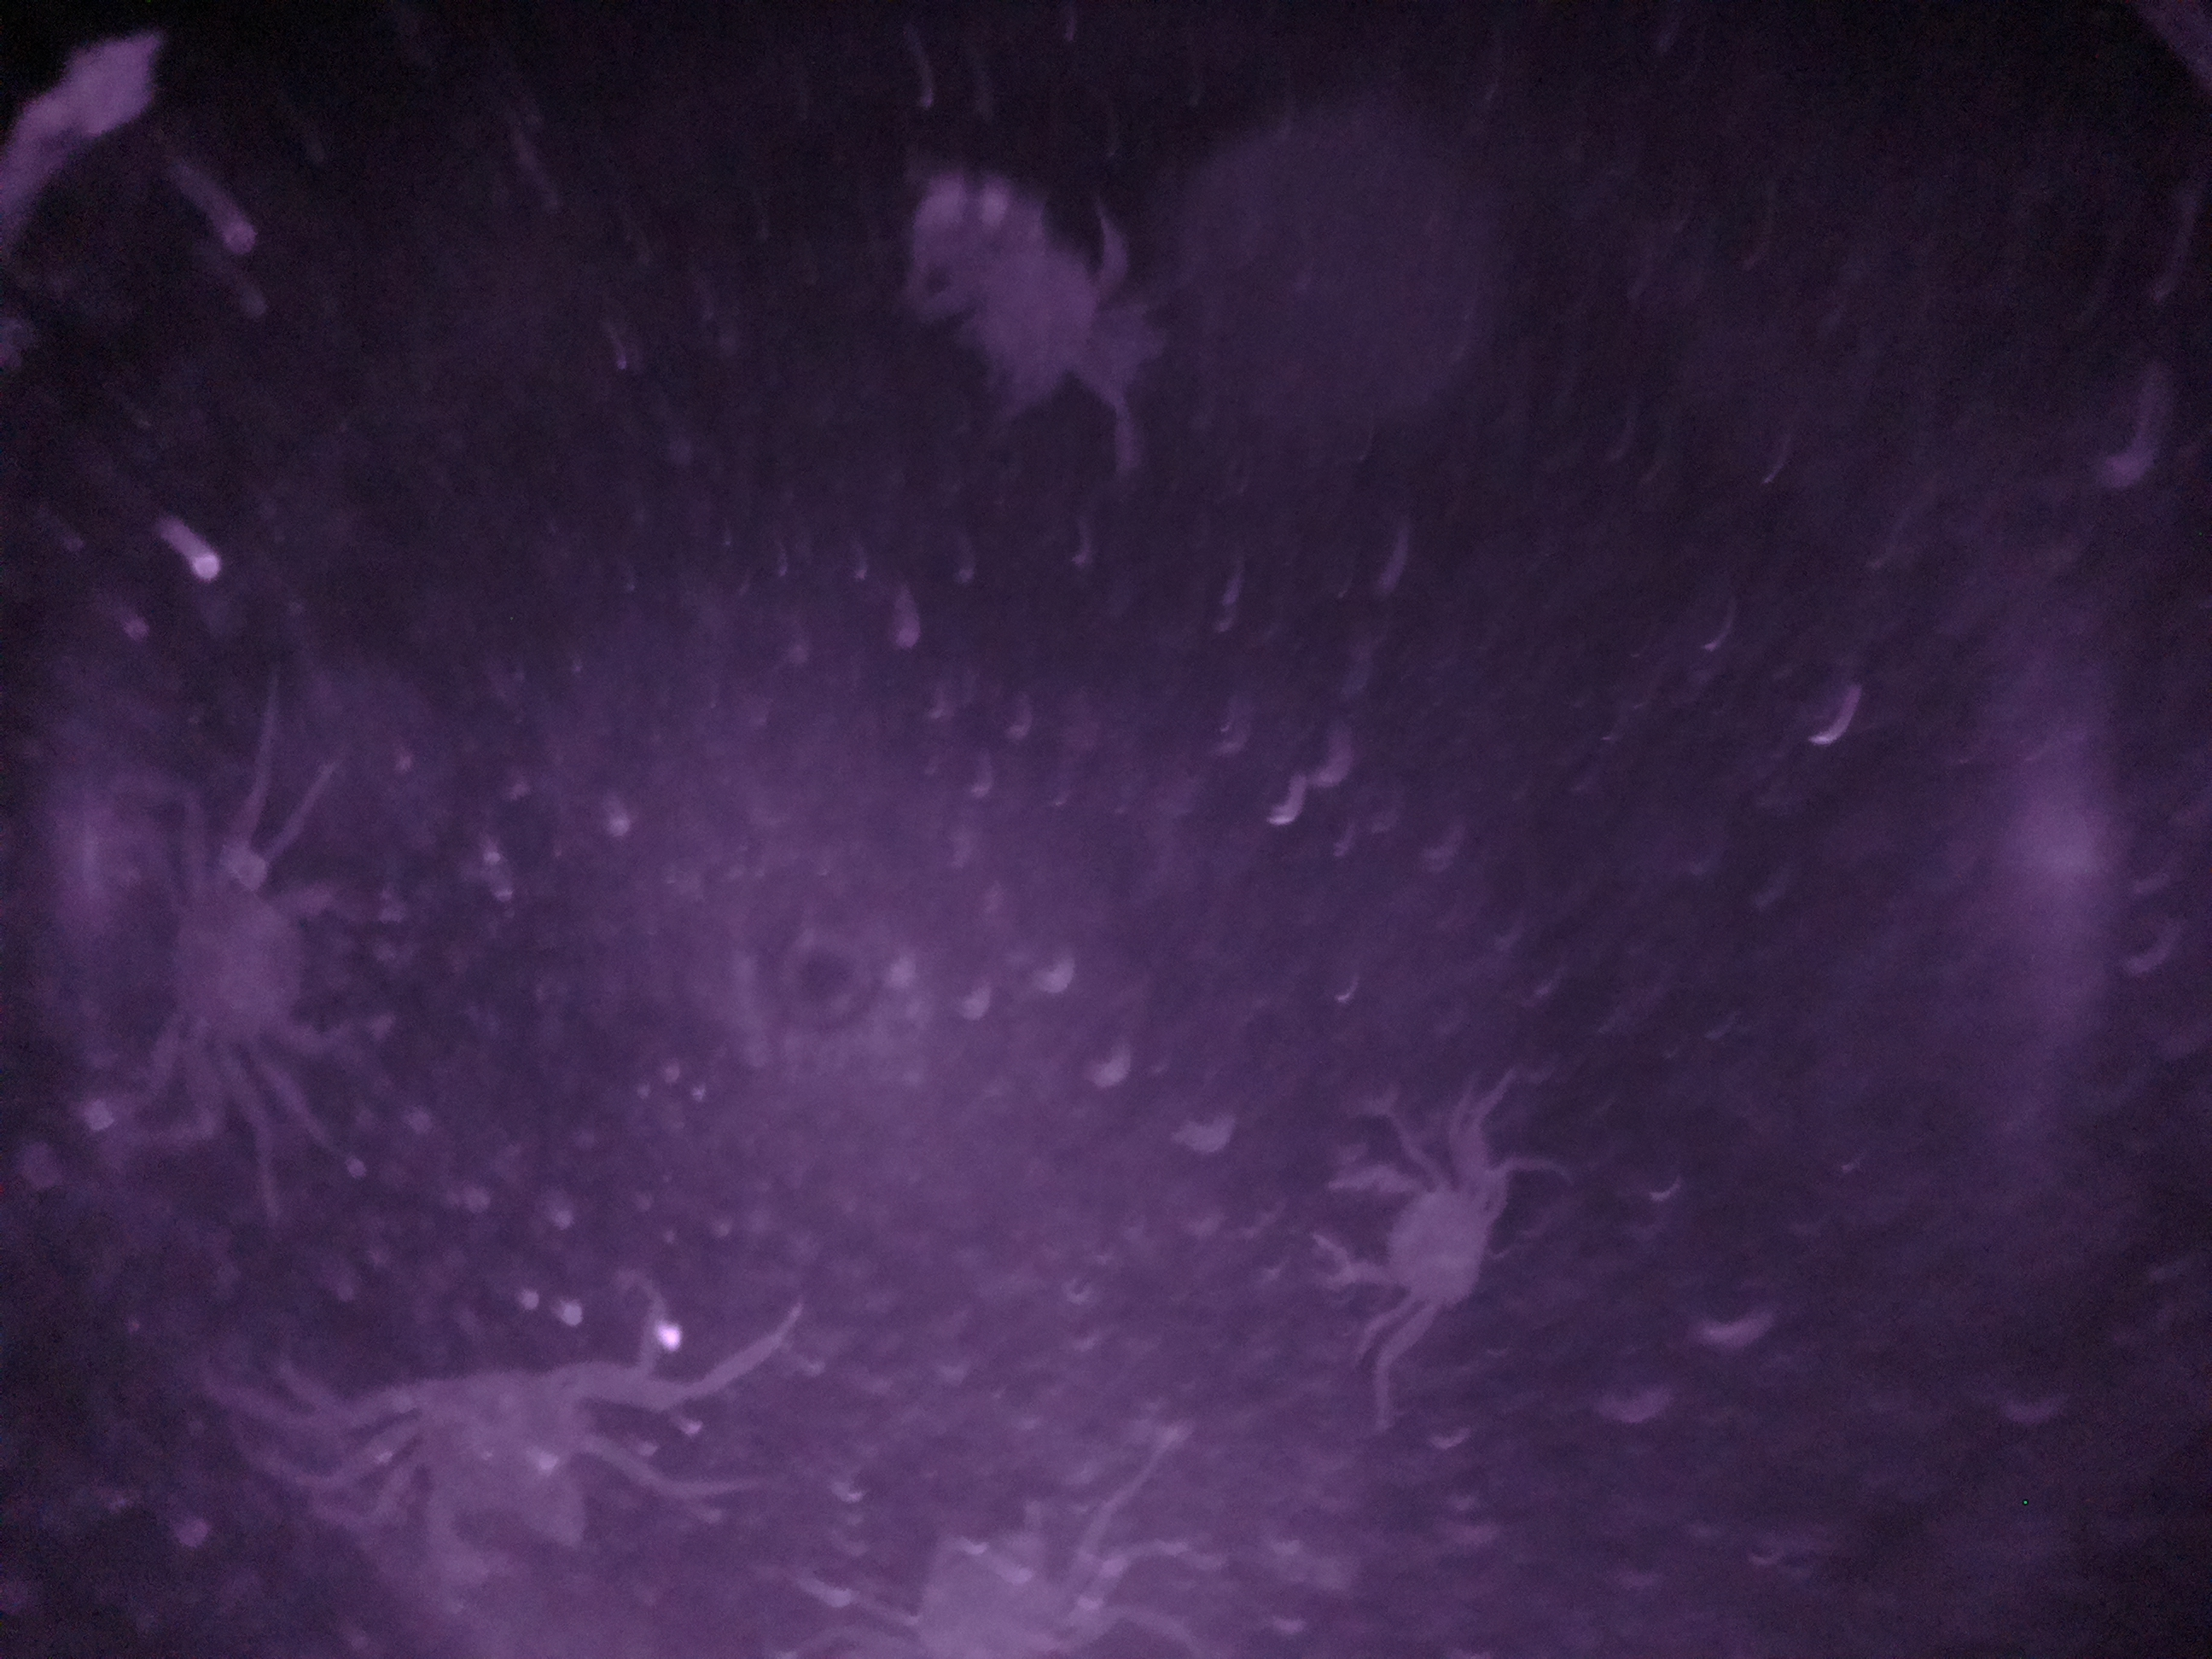Crab: (1294, 1129, 1526, 1340)
